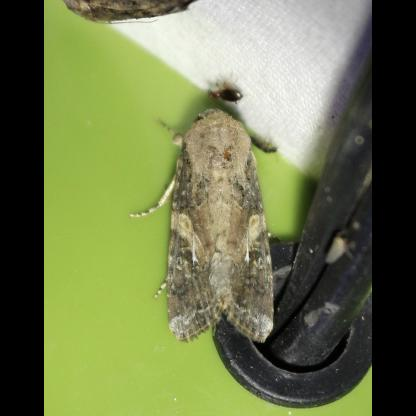Fall Armyworm Moth: (126, 104, 280, 348), (60, 0, 209, 26)
